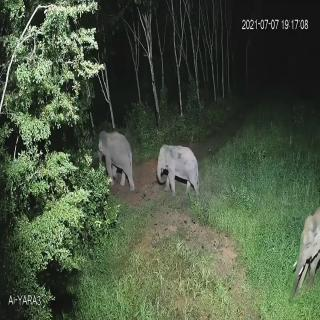Elephant: (96, 118, 139, 197), (154, 141, 209, 201), (291, 200, 320, 300)
